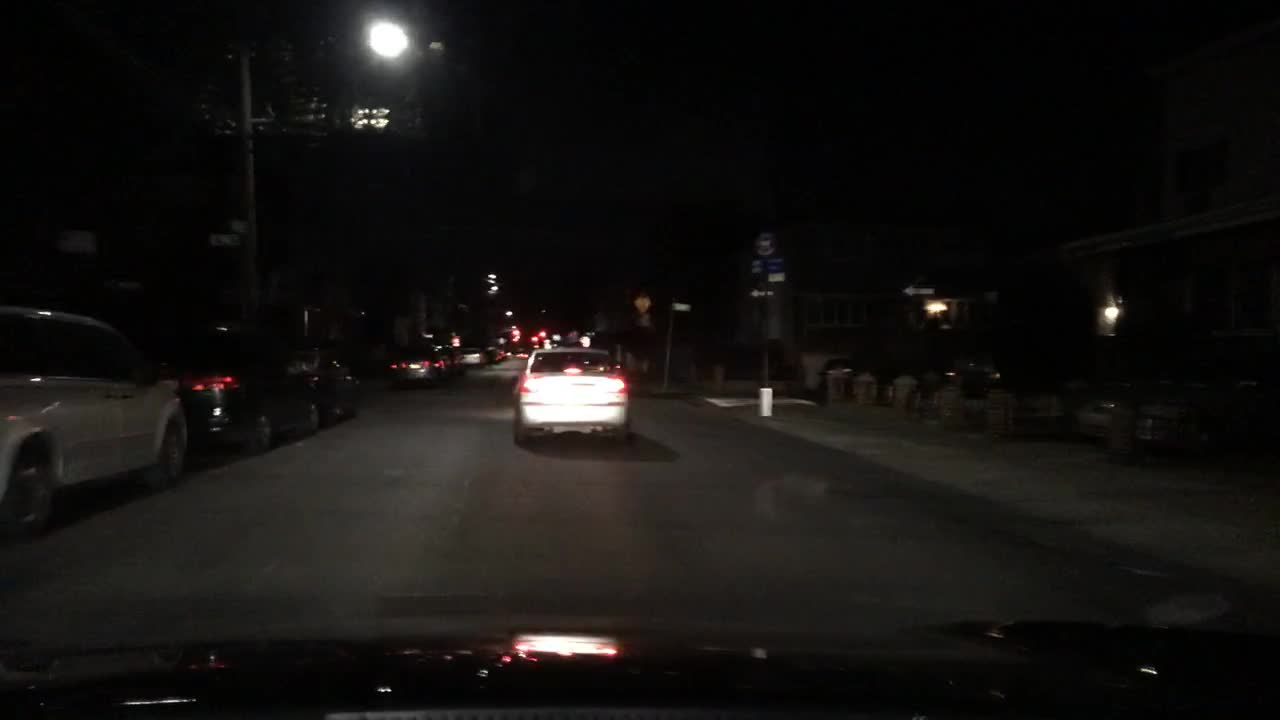car: (0, 300, 189, 543), (143, 331, 325, 457), (509, 347, 631, 444), (302, 345, 361, 423), (387, 339, 450, 382), (941, 347, 1002, 391), (815, 358, 860, 380), (437, 343, 466, 368), (461, 347, 492, 366), (490, 340, 507, 362)
traffic light: (510, 325, 524, 342), (536, 328, 549, 339)
traffic sign: (767, 257, 788, 282), (753, 230, 776, 251), (897, 284, 939, 294), (633, 290, 653, 310), (747, 285, 776, 297), (636, 313, 652, 328), (750, 257, 762, 273), (672, 304, 690, 310)
